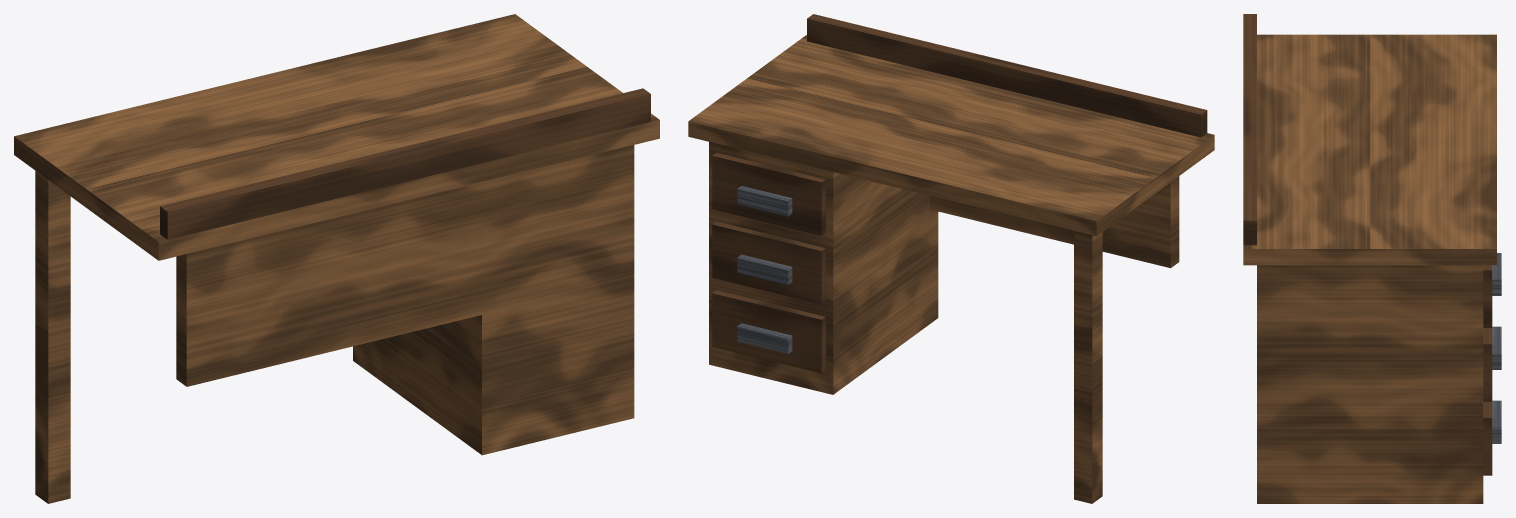
The model's file is study_desk.fbx.
3 renders of one model, left to right at view 1: azimuth 30°, elevation 25°; view 2: azimuth 150°, elevation 25°; view 3: azimuth 270°, elevation 25°, orthographic. The views are drawn at different scales.
Visible parts, largest first — view 1: study_desk; view 2: study_desk; view 3: study_desk.
Boxes of the visible parts, x1,y1,x2,y2 form: study_desk: (14, 14, 659, 503); study_desk: (688, 14, 1214, 503); study_desk: (1243, 14, 1501, 503).
Bounding box in the file's own units: 112 × 82 × 57.
